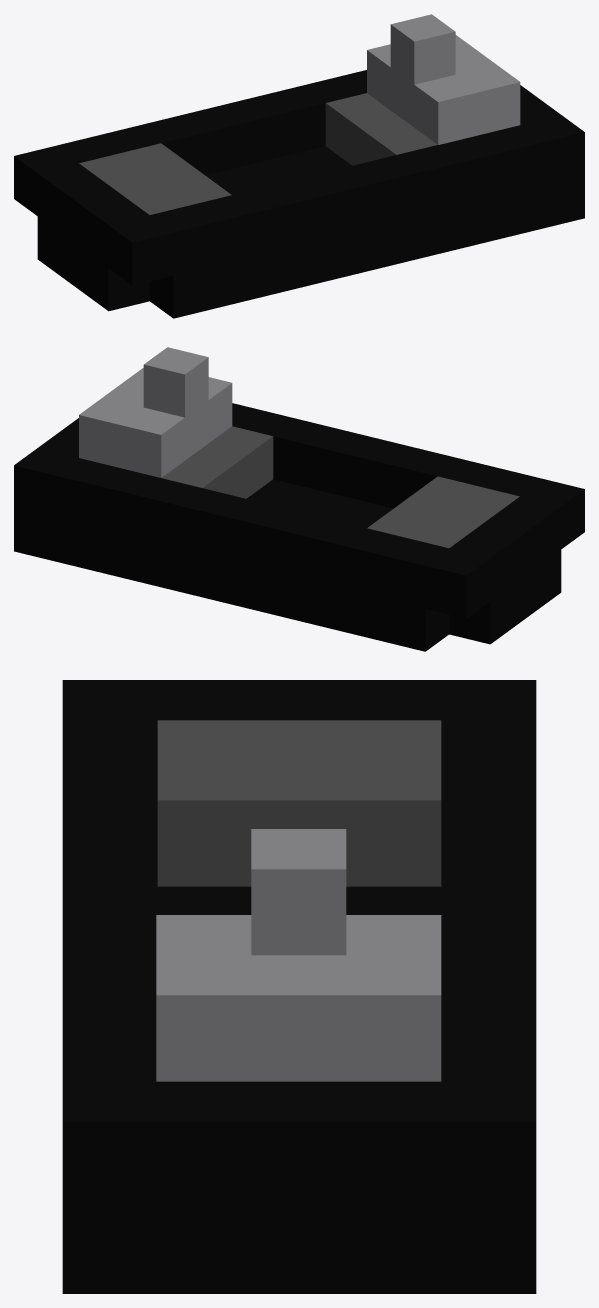
File: transport.glb
The picture shows the model from 3 angles, top to bottom: view 1: azimuth 30°, elevation 25°; view 2: azimuth 150°, elevation 25°; view 3: azimuth 270°, elevation 25°; orthographic projection. The views are drawn at different scales.
Parts seen in each view (by area): view 1: transport; view 2: transport; view 3: transport.
Boxes of the visible parts, x1=… form: transport: x1=14, y1=14, x2=584, y2=318; transport: x1=14, y1=347, x2=584, y2=651; transport: x1=62, y1=680, x2=536, y2=1293.
Bounding box in the file's own units: 0.5314 × 0.1932 × 0.2408.
Materials: 1 (1 with a texture image).
